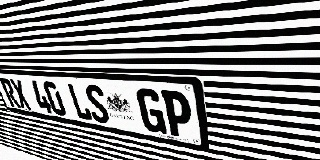0: (42, 81, 67, 116)
4: (29, 80, 53, 114)
G: (135, 88, 167, 135)
L: (66, 83, 93, 121)
P: (161, 90, 194, 139)
R: (0, 78, 21, 108)
S: (83, 84, 111, 124)
X: (9, 79, 32, 110)
